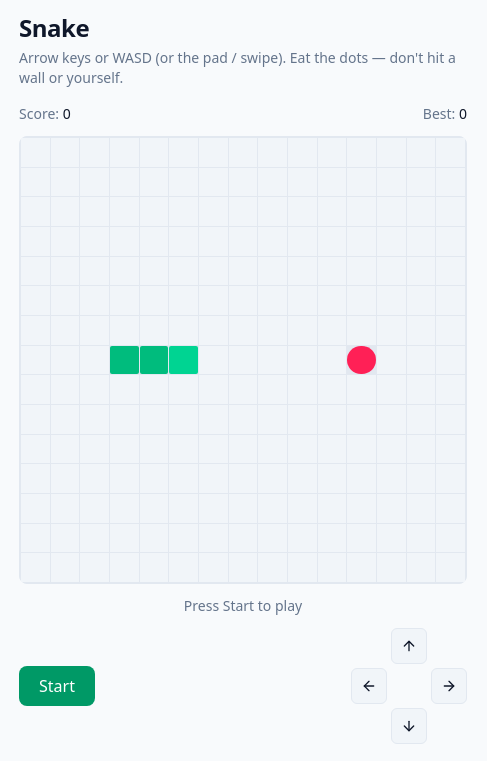
Test: SnakeApp › Play again resets the score
Click the button "Start". click: (57, 686)
box: 19,666 -> 95,706
Wait 1690 ms
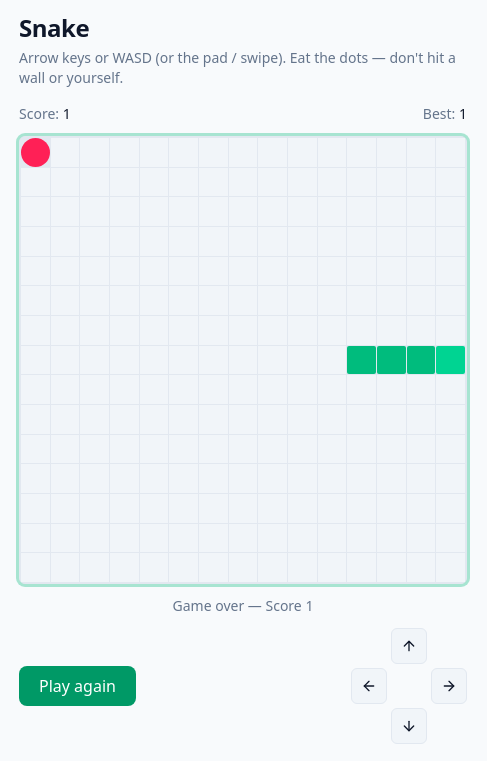
Click the button "Play again". click: (77, 686)
box: 19,666 -> 136,706
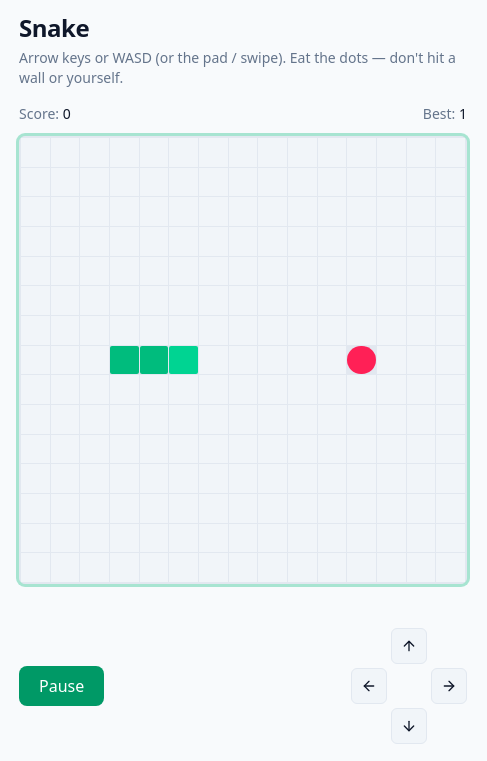
Check: the text "Score:" reads "Score: 0", box 19,104 -> 71,124
Check: the text "Game over" is gone
